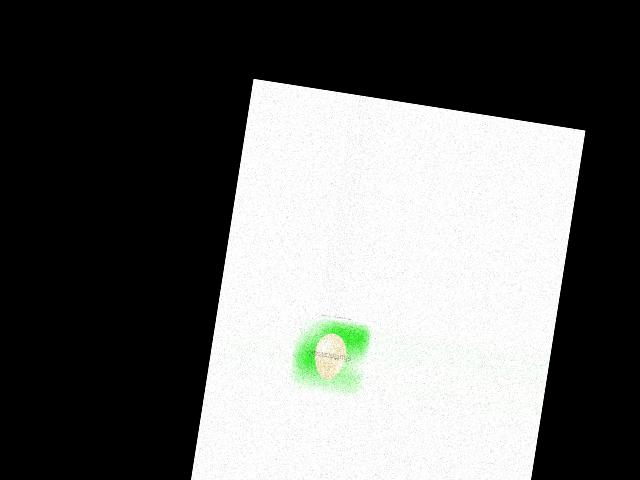egg: (310, 331, 348, 381)
